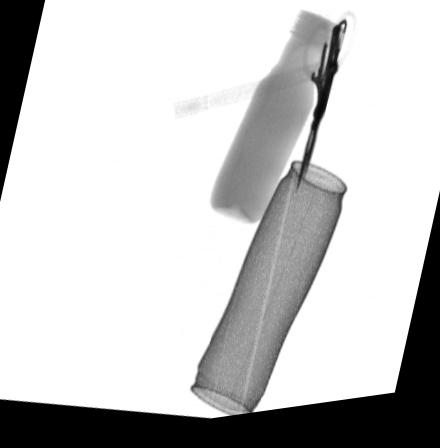Knife: (303, 28, 348, 193)
Scissors: (296, 20, 360, 202)
